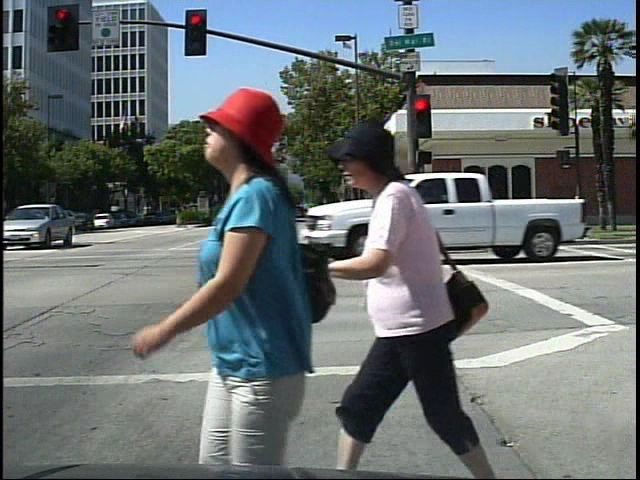person: (108, 64, 343, 473), (334, 116, 508, 479)
